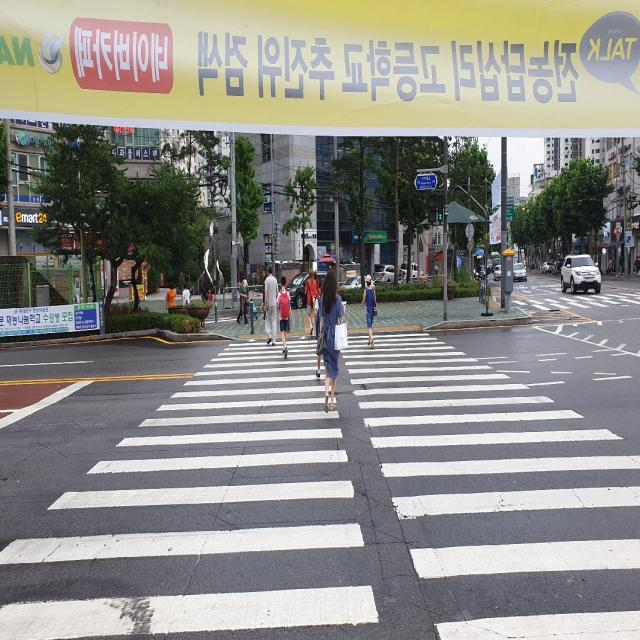zebra crossing ahead at: (1, 366, 390, 635), (350, 343, 640, 639)
